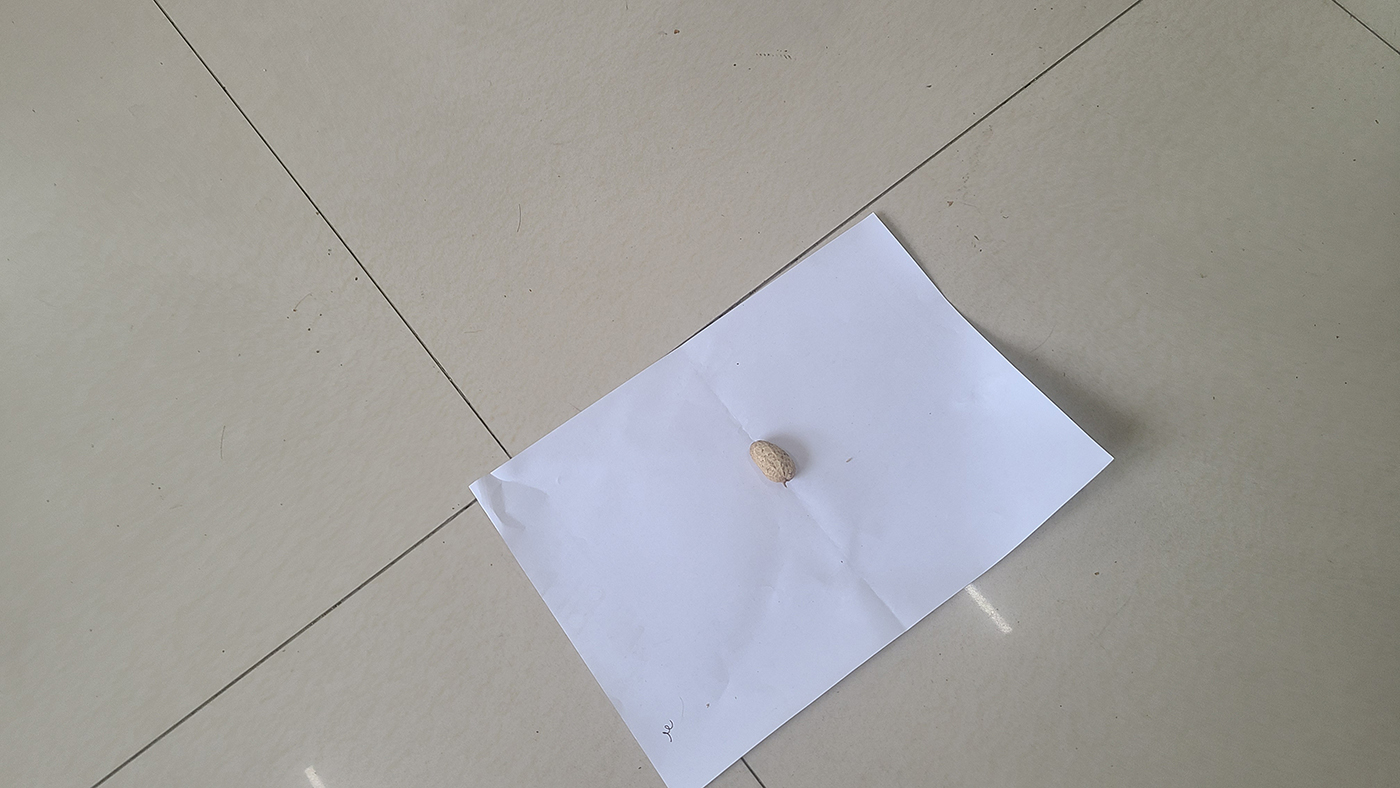h: (748, 439, 798, 483)
